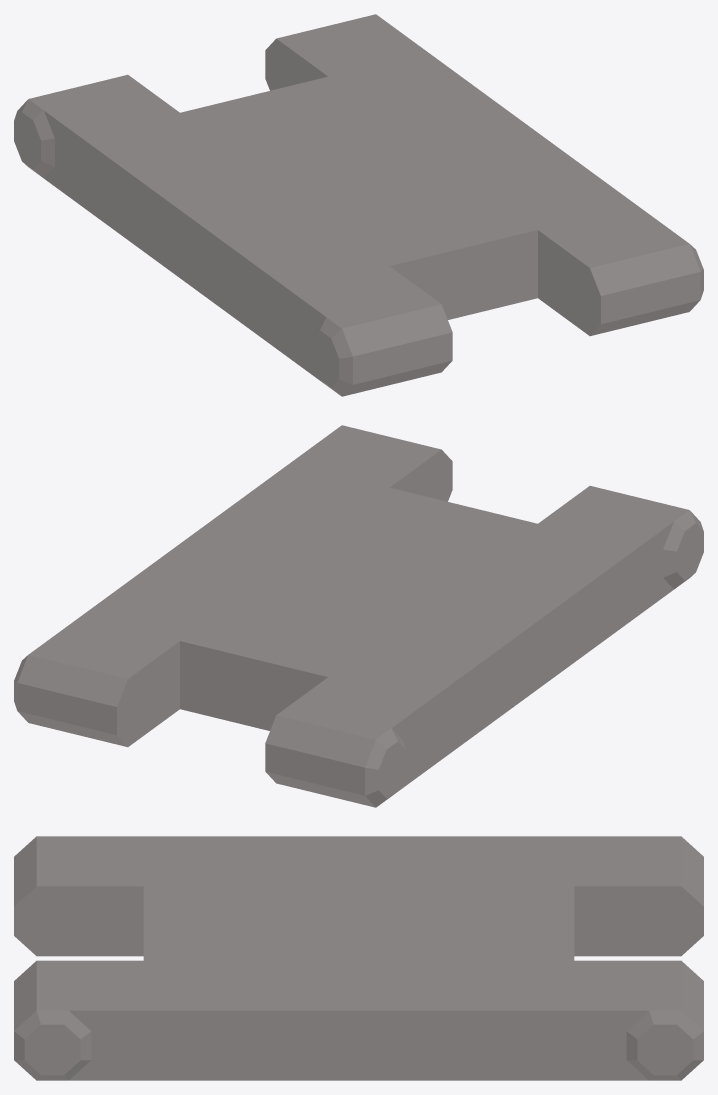
Rendered from bulldozer-chassis.glb.
The picture shows the model from 3 angles, top to bottom: view 1: azimuth 30°, elevation 25°; view 2: azimuth 150°, elevation 25°; view 3: azimuth 270°, elevation 25°; orthographic projection. The views are drawn at different scales.
Visible parts, largest first — view 1: bulldozer-chassis; view 2: bulldozer-chassis; view 3: bulldozer-chassis.
Part boxes in pixels (left/top/right/bottom): bulldozer-chassis: left=14, top=14, right=703, bottom=396; bulldozer-chassis: left=14, top=425, right=703, bottom=807; bulldozer-chassis: left=14, top=836, right=703, bottom=1080.
Size of the model in its own units: 2.25 by 0.402 by 3.59.
1 material, 1 textured.
